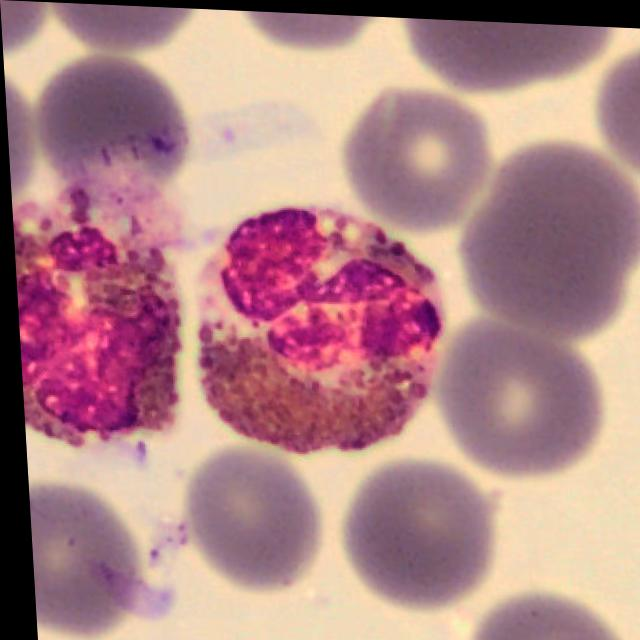Eosinofilo: (195, 204, 443, 450), (10, 178, 173, 446)
